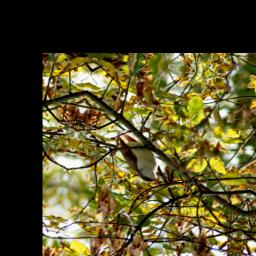Cuckoo: (100, 132, 174, 189)
